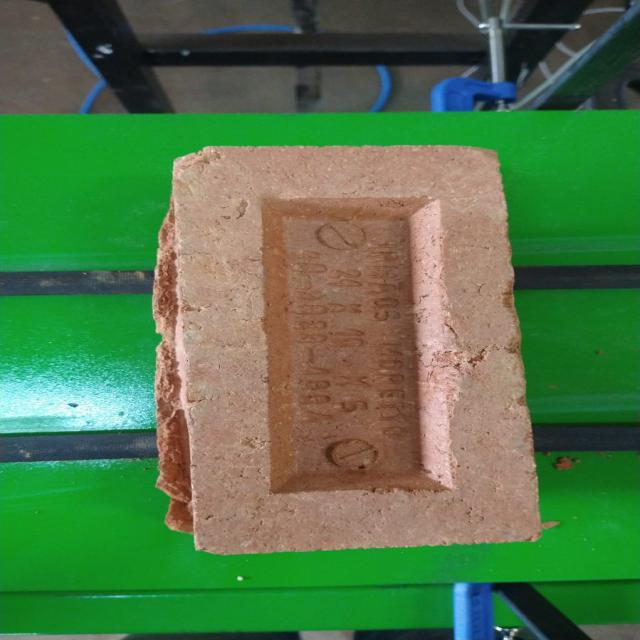bricks_ruin: (148, 142, 545, 554)
